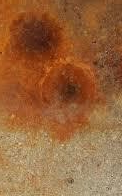Corrosion: (1, 1, 122, 143)
